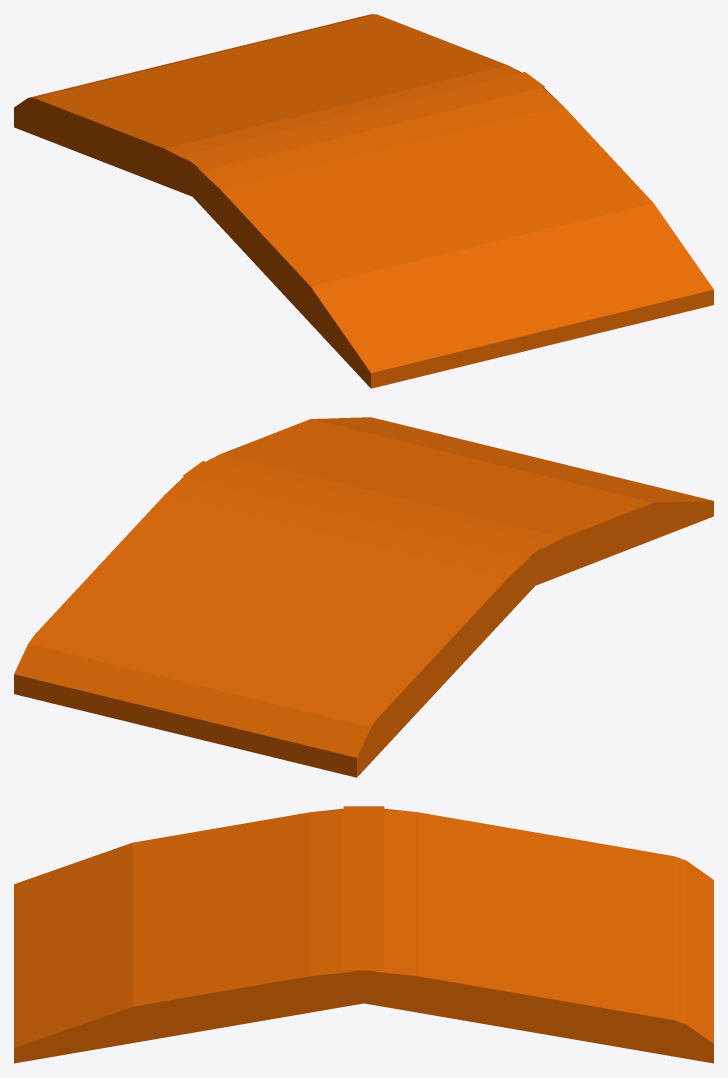
Rendered from Puente2.fbx.
3 renders of one model, top to bottom at view 1: azimuth 30°, elevation 25°; view 2: azimuth 150°, elevation 25°; view 3: azimuth 270°, elevation 25°, orthographic. The views are drawn at different scales.
Visible parts, largest first — view 1: Cube.005; view 2: Cube.005; view 3: Cube.005.
Boxes of the visible parts, bbox=[...] form: Cube.005: bbox=[14, 14, 713, 388]; Cube.005: bbox=[14, 417, 713, 777]; Cube.005: bbox=[14, 806, 713, 1063].
Bounding box in the file's own units: 1100 × 291 × 1985.
